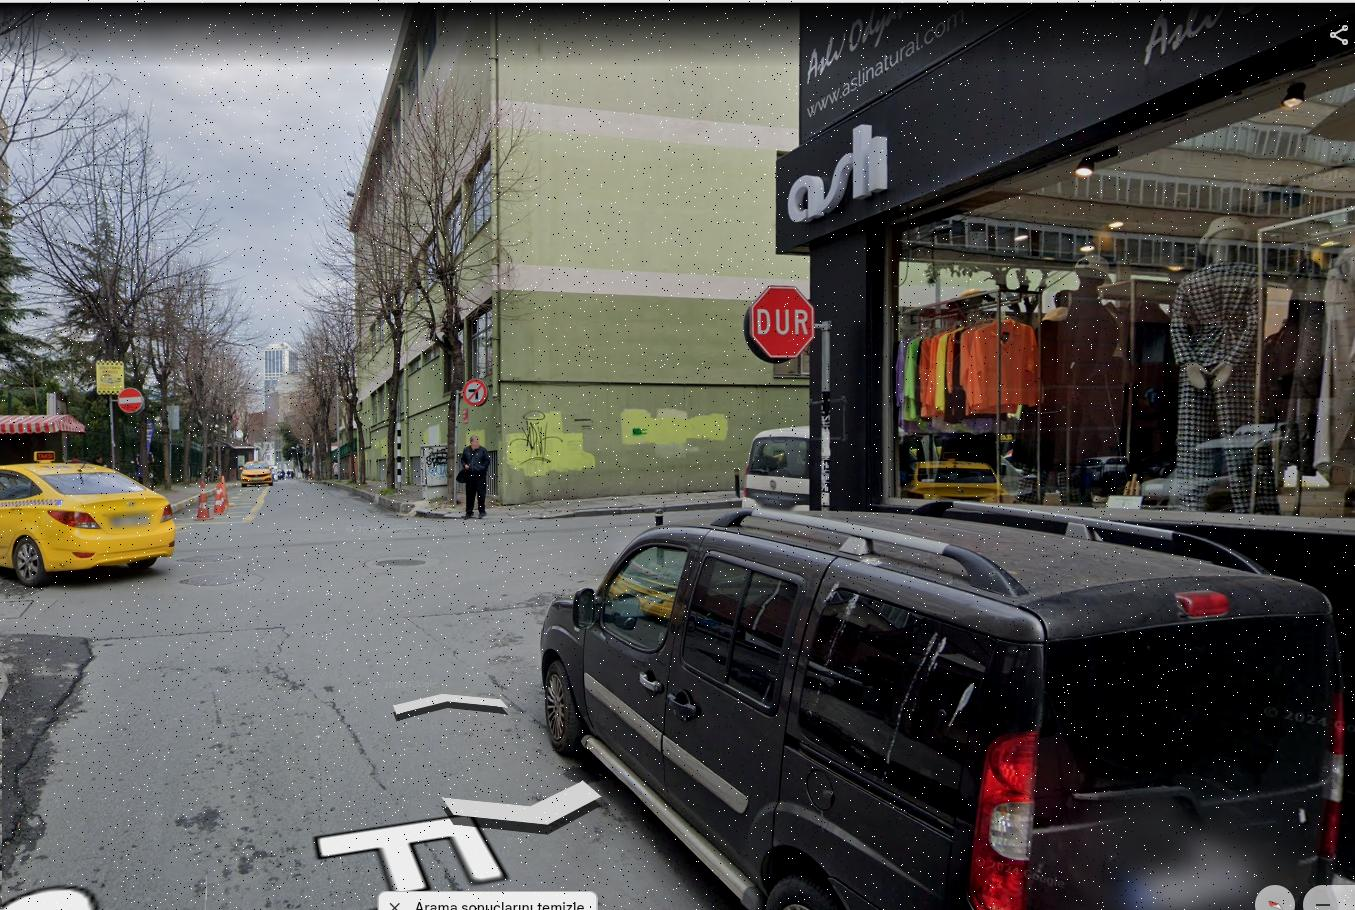leftturnsareforbidden: (462, 378, 489, 406)
stop: (750, 284, 815, 362)
